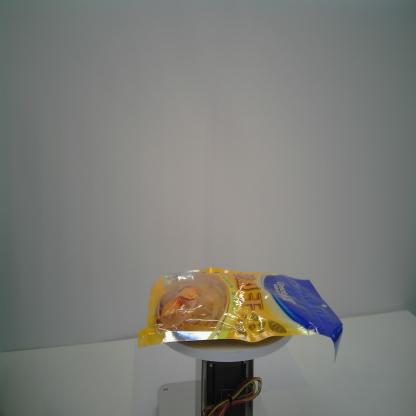Dried Fruit: (136, 266, 343, 364)
